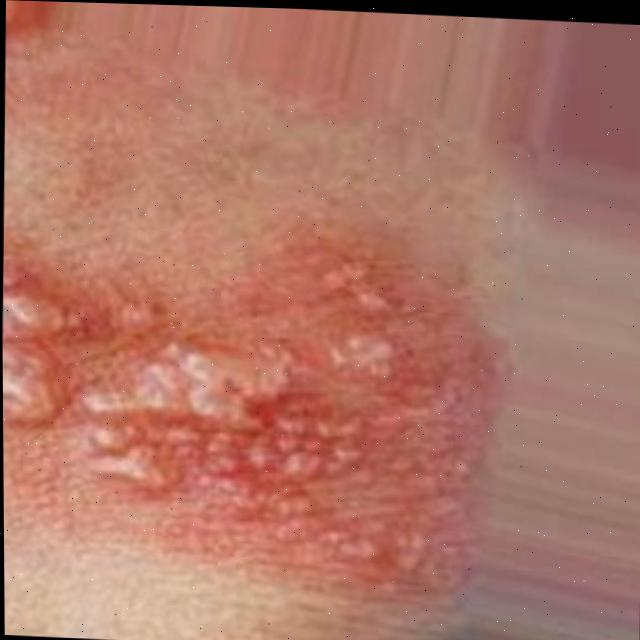Shingles: (2, 257, 427, 563)
